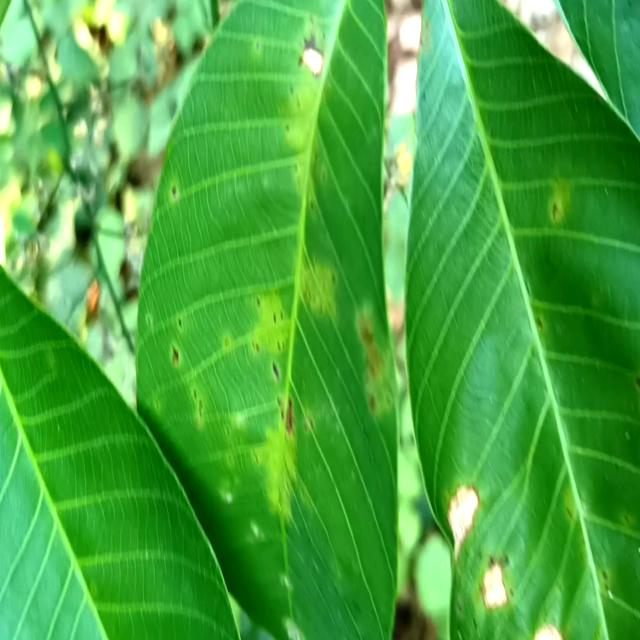Leaf-Blight: (448, 483, 480, 563), (482, 560, 508, 611), (302, 45, 323, 76), (534, 623, 562, 640)
